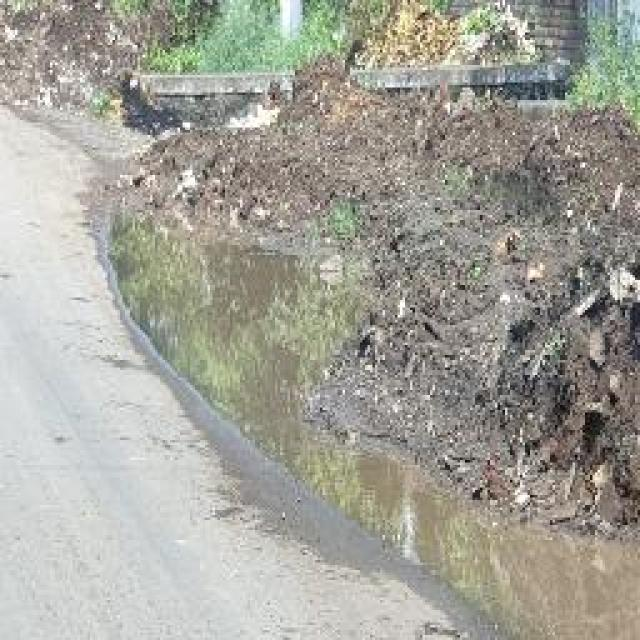stagnation: (87, 226, 475, 607), (493, 490, 637, 638)
